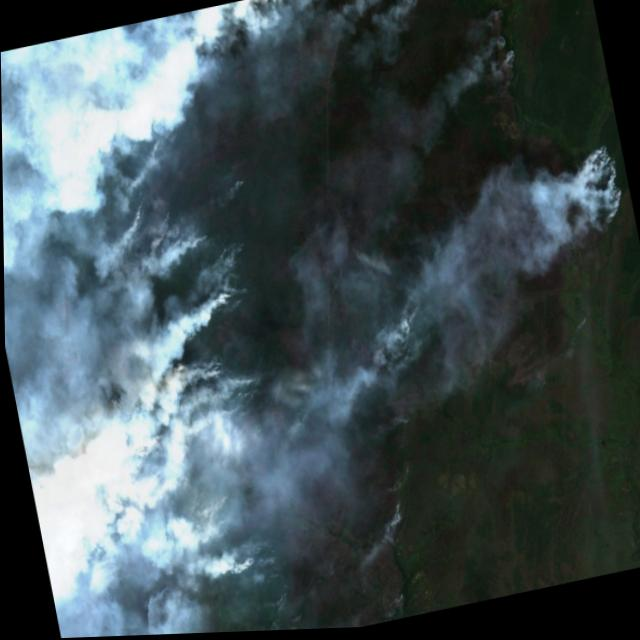fire: (35, 0, 358, 633), (558, 134, 632, 248)
